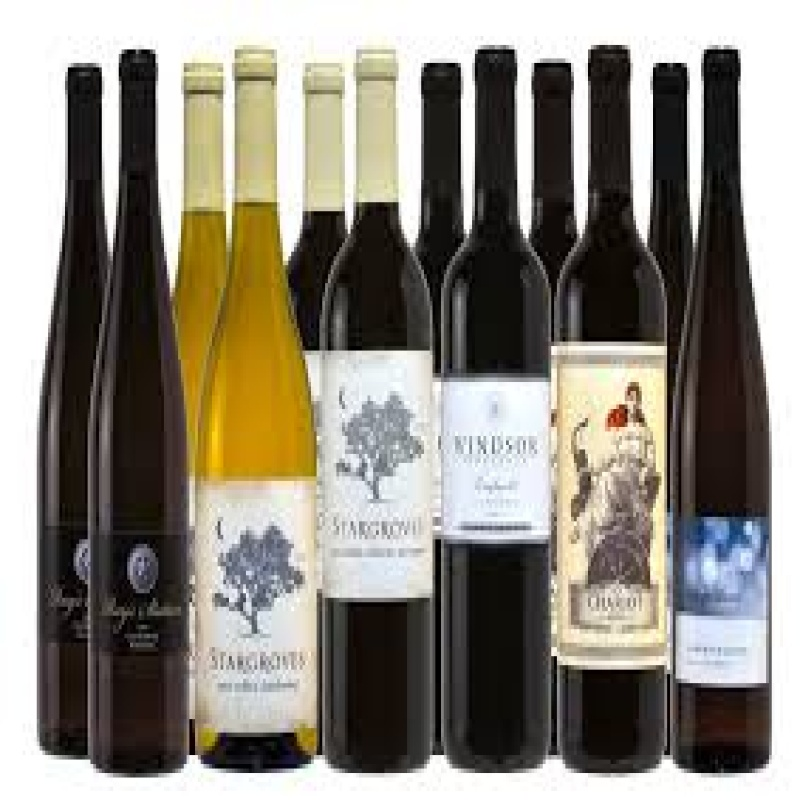wine: (314, 46, 438, 759), (204, 50, 321, 780), (559, 50, 670, 775), (667, 43, 775, 769), (80, 52, 189, 763)
